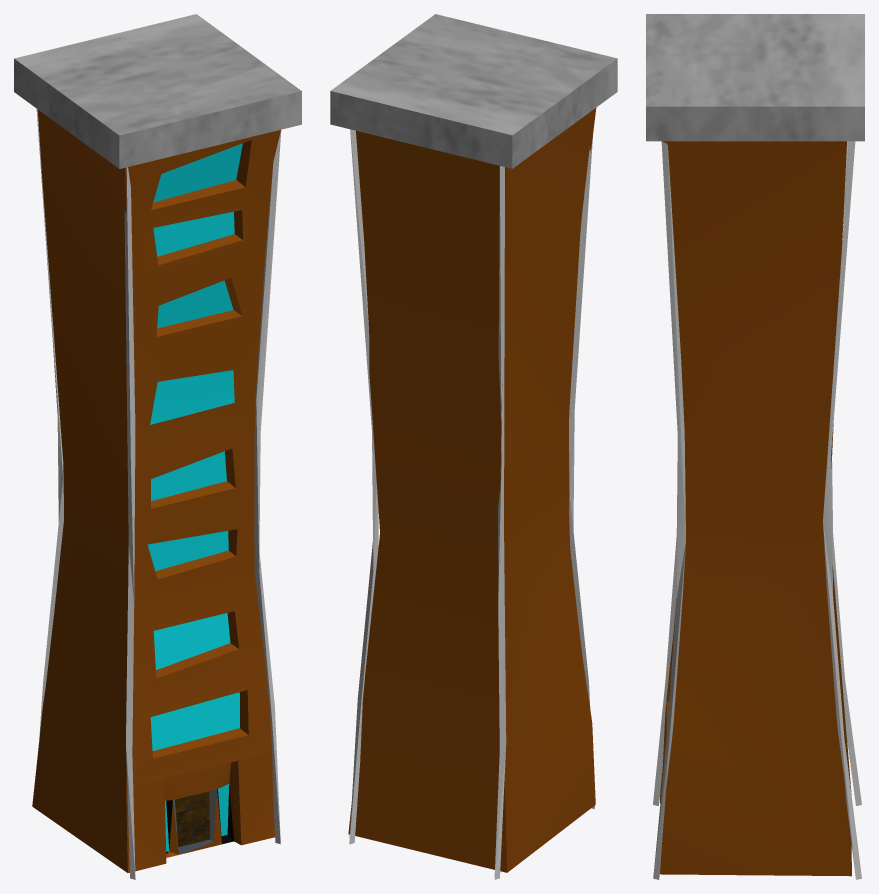
The model's file is PredioAltoFino-LaranjaEscuroLOD1.fbx.
The picture shows the model from 3 angles, left to right: view 1: azimuth 30°, elevation 25°; view 2: azimuth 150°, elevation 25°; view 3: azimuth 270°, elevation 25°; orthographic projection. The views are drawn at different scales.
Parts seen in each view (by area): view 1: PredioAltoFinoLOD1; view 2: PredioAltoFinoLOD1; view 3: PredioAltoFinoLOD1.
Boxes of the visible parts, box(x1,y1,x2,y2) form: PredioAltoFinoLOD1: box(14, 14, 301, 879); PredioAltoFinoLOD1: box(330, 14, 617, 879); PredioAltoFinoLOD1: box(646, 14, 864, 879).
Bounding box in the file's own units: 635 × 2498 × 635.
